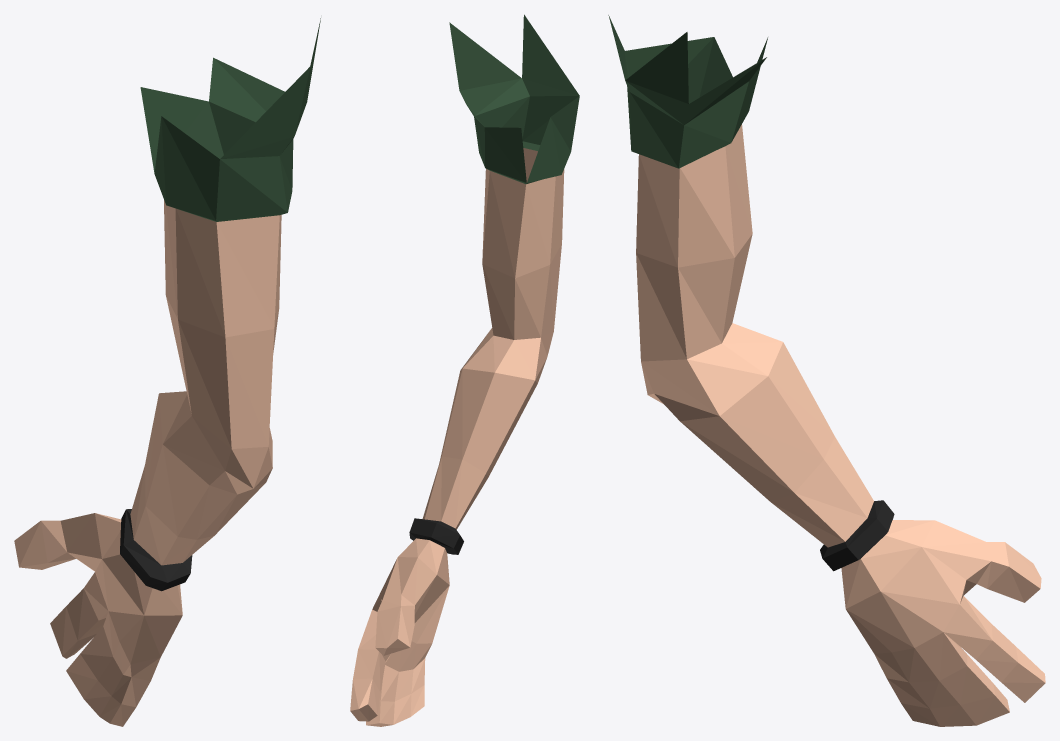
File: ShopKeeper_01_ArmR_38.obj
3 views of the same model, side by side, from view 1: azimuth 30°, elevation 25°; view 2: azimuth 150°, elevation 25°; view 3: azimuth 270°, elevation 25° (orthographic). The views are drawn at different scales.
Visible parts, largest first — view 1: ShopKeeper_01_ArmR_38; view 2: ShopKeeper_01_ArmR_38; view 3: ShopKeeper_01_ArmR_38.
Part boxes in pixels (<box>): ShopKeeper_01_ArmR_38: <box>14,18,320,726</box>; ShopKeeper_01_ArmR_38: <box>350,14,579,726</box>; ShopKeeper_01_ArmR_38: <box>608,15,1045,726</box>.
Size of the model in its own units: 0.1602 by 0.8007 by 0.436.
1 material, 1 textured.
